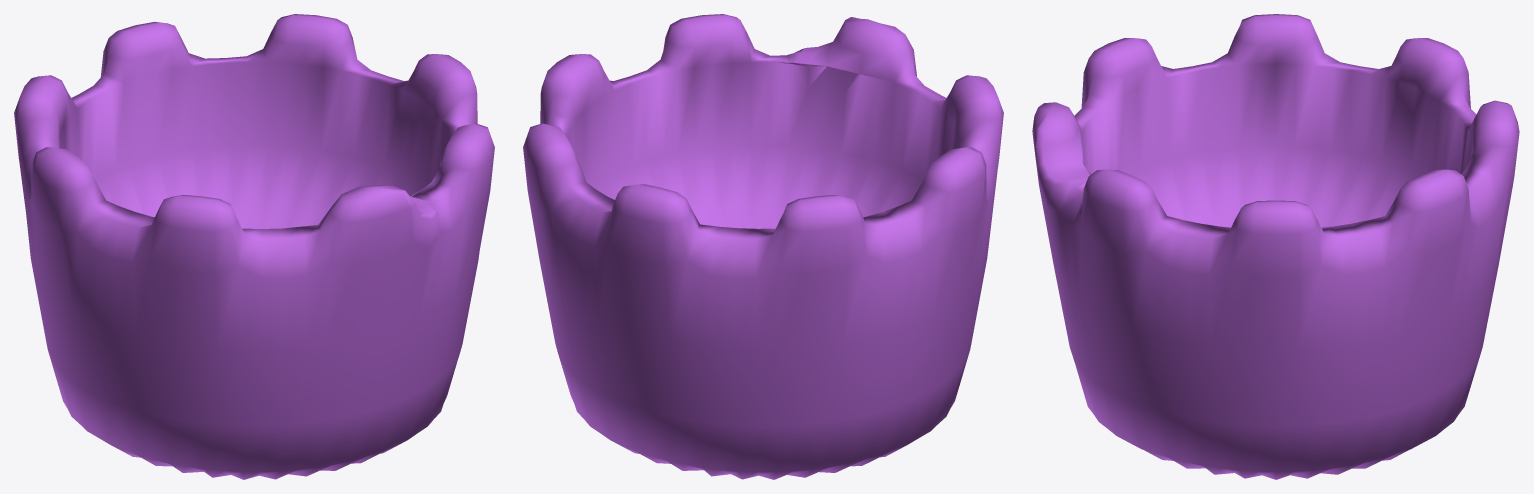
The model's file is MacetaVerano3.fbx.
3 renders of one model, left to right at view 1: azimuth 30°, elevation 25°; view 2: azimuth 150°, elevation 25°; view 3: azimuth 270°, elevation 25°, orthographic.
Parts seen in each view (by area): view 1: Circle.033; view 2: Circle.033; view 3: Circle.033.
Part boxes in pixels (box(x1,y1,x2,y2)): Circle.033: box(14, 14, 494, 479); Circle.033: box(523, 14, 1003, 479); Circle.033: box(1032, 14, 1519, 479).
Bounding box in the file's own units: 35.5 × 25.65 × 35.54.
